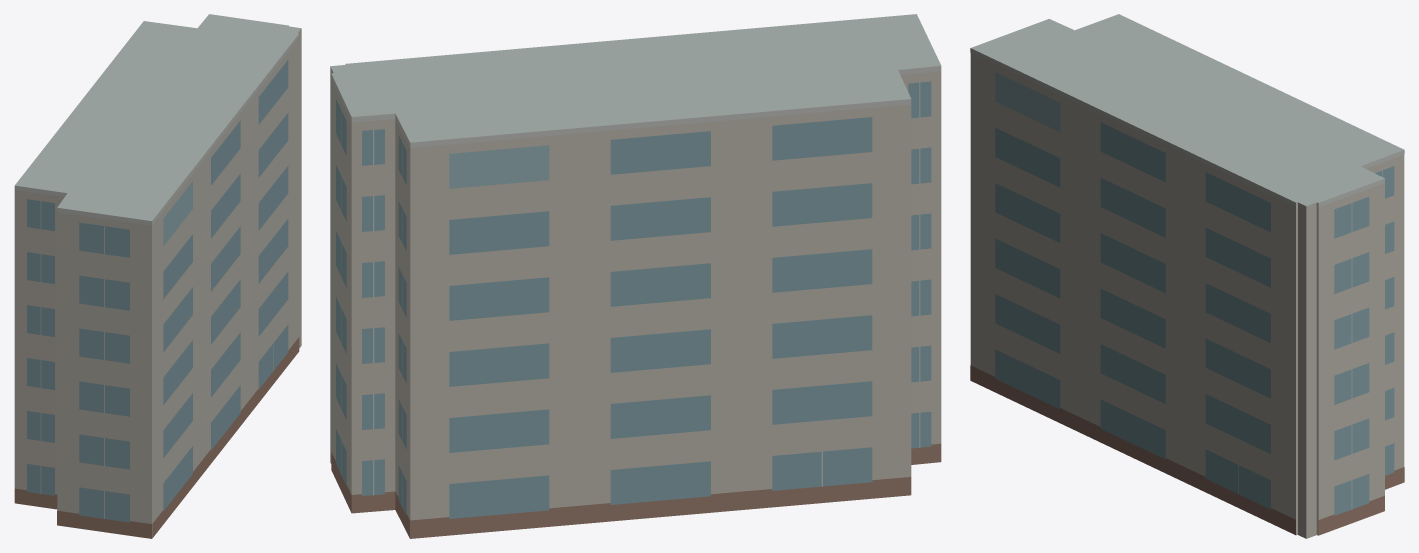
Rendered from survey-upis-32510262.glb.
The picture shows the model from 3 angles, left to right: view 1: azimuth 30°, elevation 25°; view 2: azimuth 150°, elevation 25°; view 3: azimuth 270°, elevation 25°; orthographic projection. The views are drawn at different scales.
Parts seen in each view (by area): view 1: survey-upis-32510262.tmp; view 2: survey-upis-32510262.tmp; view 3: survey-upis-32510262.tmp.
Part boxes in pixels (x1=…): survey-upis-32510262.tmp: x1=14, y1=14, x2=301, y2=538; survey-upis-32510262.tmp: x1=330, y1=14, x2=941, y2=538; survey-upis-32510262.tmp: x1=970, y1=14, x2=1404, y2=538.
Bounding box in the file's own units: 22.2 × 17.9 × 21.17.
